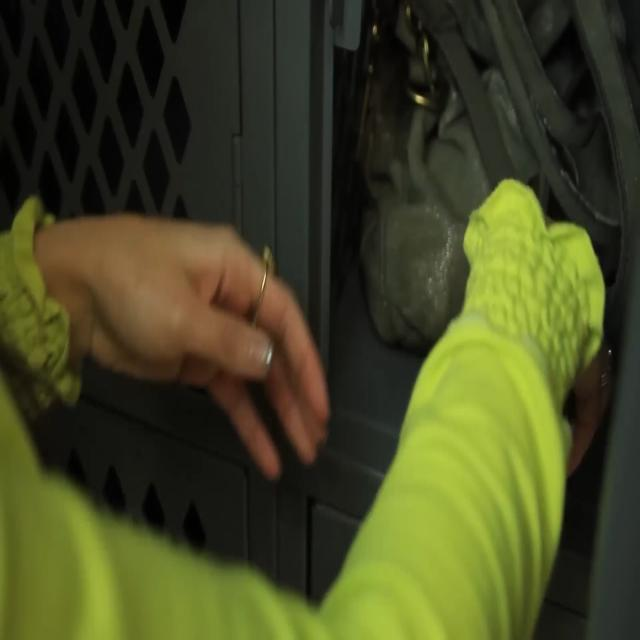dress: (0, 170, 618, 640)
